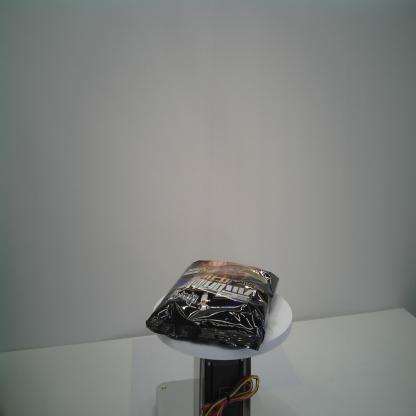Instant Noodles: (145, 259, 281, 352)
